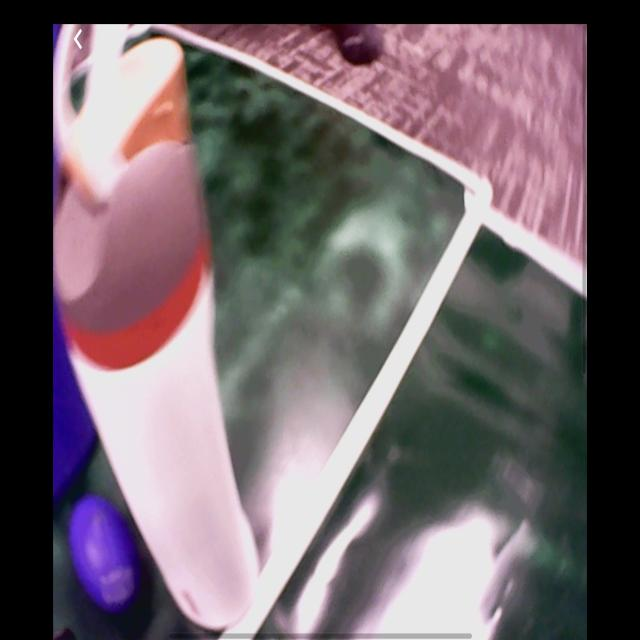ball: (69, 495, 144, 611)
